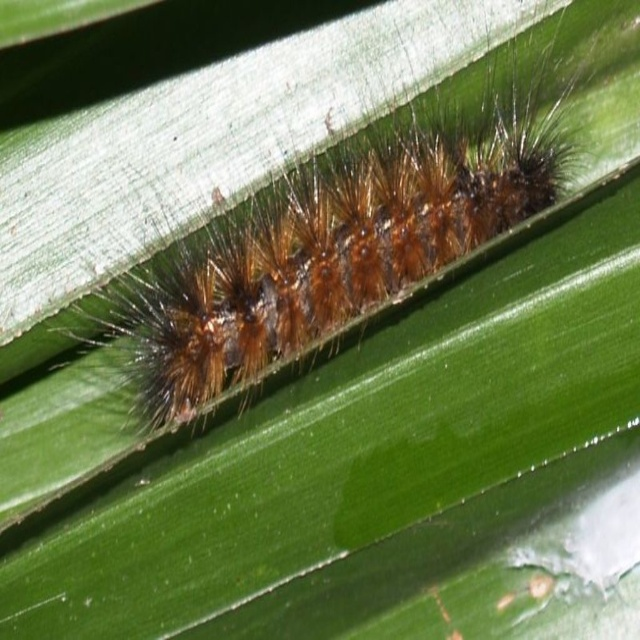Caterpillar: (15, 0, 610, 438)
